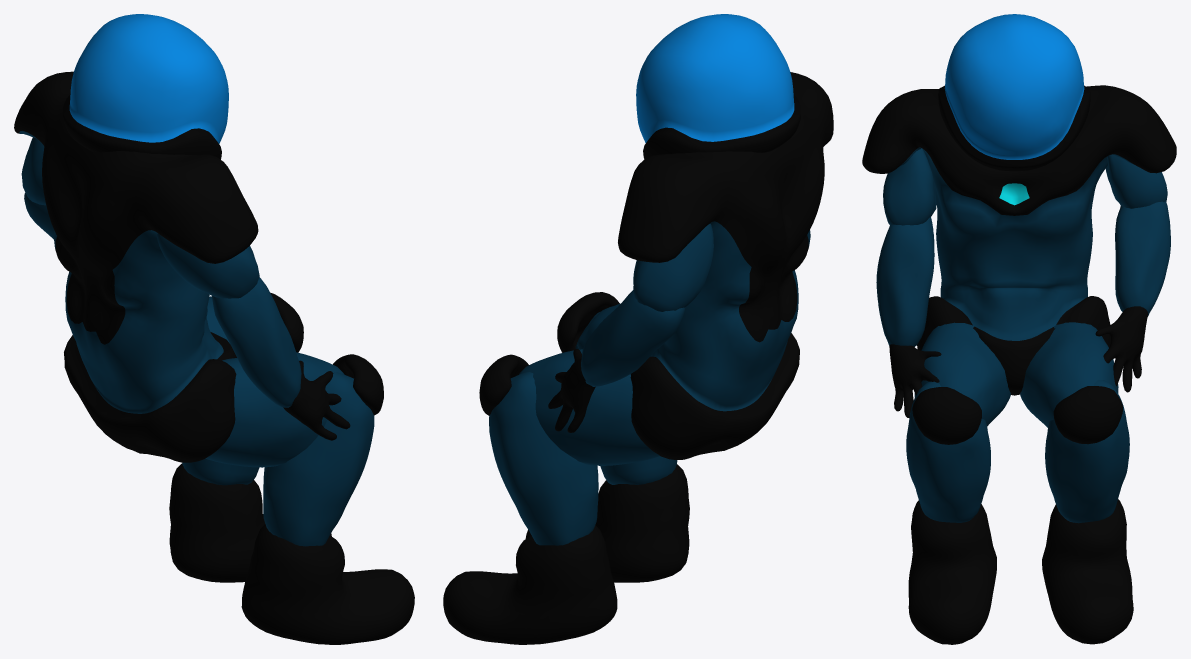
Rendered from Guy.fbx.
3 renders of one model, left to right at view 1: azimuth 30°, elevation 25°; view 2: azimuth 150°, elevation 25°; view 3: azimuth 270°, elevation 25°, orthographic. The views are drawn at different scales.
Visible parts, largest first — view 1: Space; view 2: Space; view 3: Space.
Boxes of the visible parts, box(x1,y1,x2,y2) form: Space: box(14, 14, 414, 644); Space: box(443, 14, 833, 644); Space: box(862, 14, 1176, 644).
Size of the model in its own units: 2.6 by 5.06 by 2.69.
